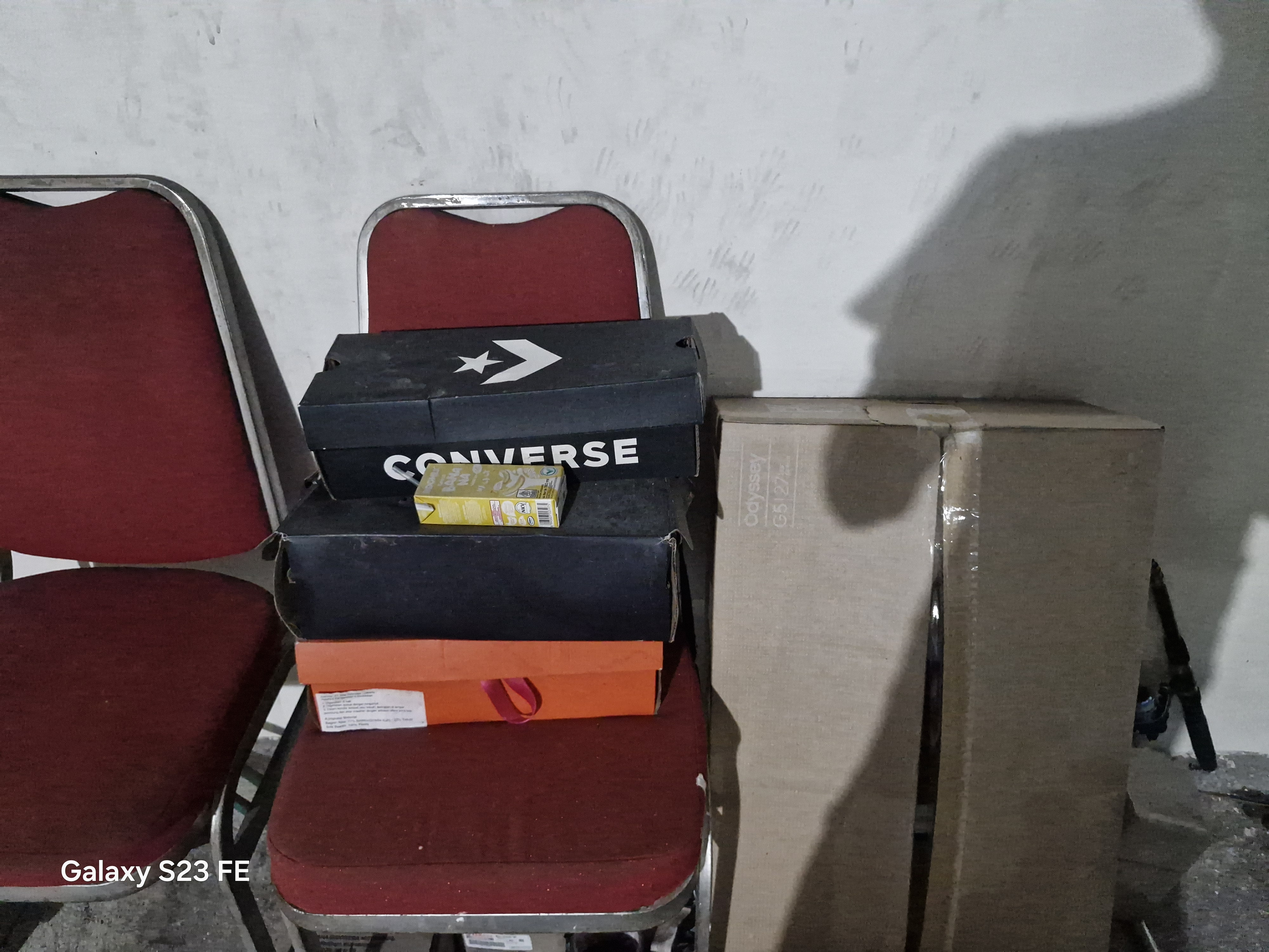box: (919, 401, 1162, 951), (710, 401, 941, 951), (299, 318, 704, 498), (274, 482, 683, 642), (296, 641, 664, 724), (413, 463, 566, 528)
chair: (267, 193, 705, 951), (0, 176, 289, 951)
floor-other-merged: (1129, 724, 1268, 951)
wall-other-merged: (0, 0, 1268, 951), (407, 463, 576, 530), (315, 689, 432, 731), (1108, 769, 1129, 951), (0, 552, 84, 585), (452, 207, 549, 223), (18, 190, 113, 205)
